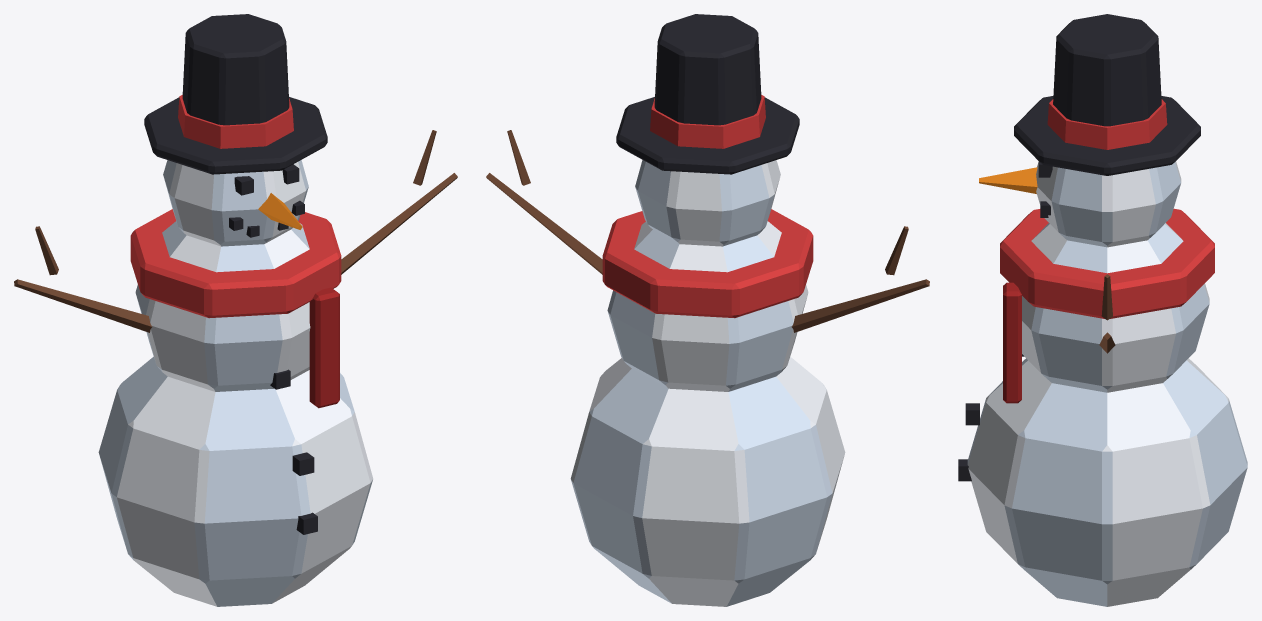
File: snowman-1x1.glb
3 views of the same model, side by side, from view 1: azimuth 30°, elevation 25°; view 2: azimuth 150°, elevation 25°; view 3: azimuth 270°, elevation 25° (orthographic).
Visible parts, largest first — view 1: snowman-1x1; view 2: snowman-1x1; view 3: snowman-1x1.
Part boxes in pixels (bbox=[...]): snowman-1x1: bbox=[14, 14, 457, 606]; snowman-1x1: bbox=[486, 14, 929, 606]; snowman-1x1: bbox=[958, 14, 1247, 606].
Bounding box in the file's own units: 0.9 × 1.09 × 0.5107.
1 material, 1 textured.
